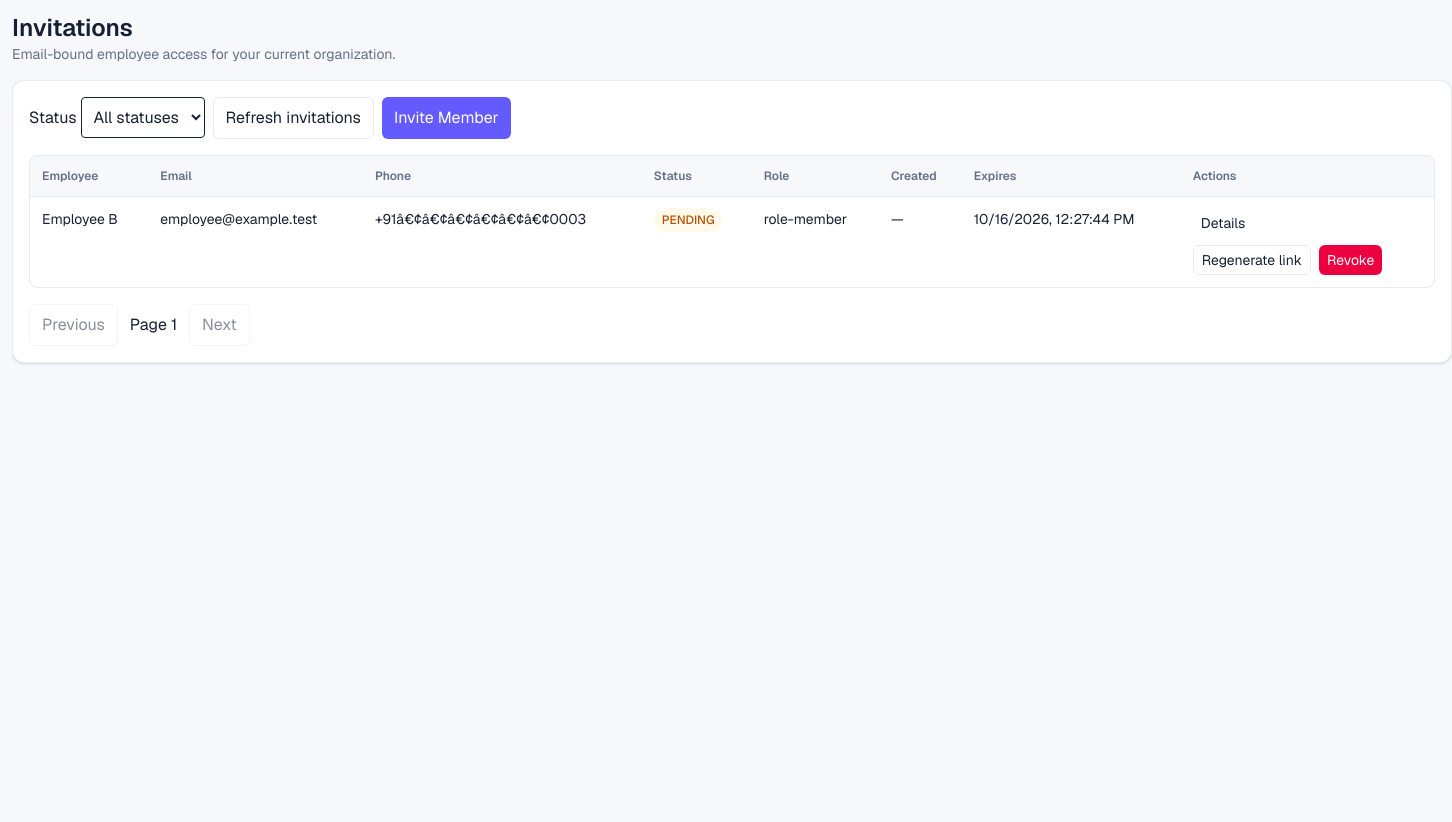
Test: resends through the real endpoint without making a second invitation
Step 1. Click the button "Regenerate link" → (1252, 260), box [1193,245,1311,275]
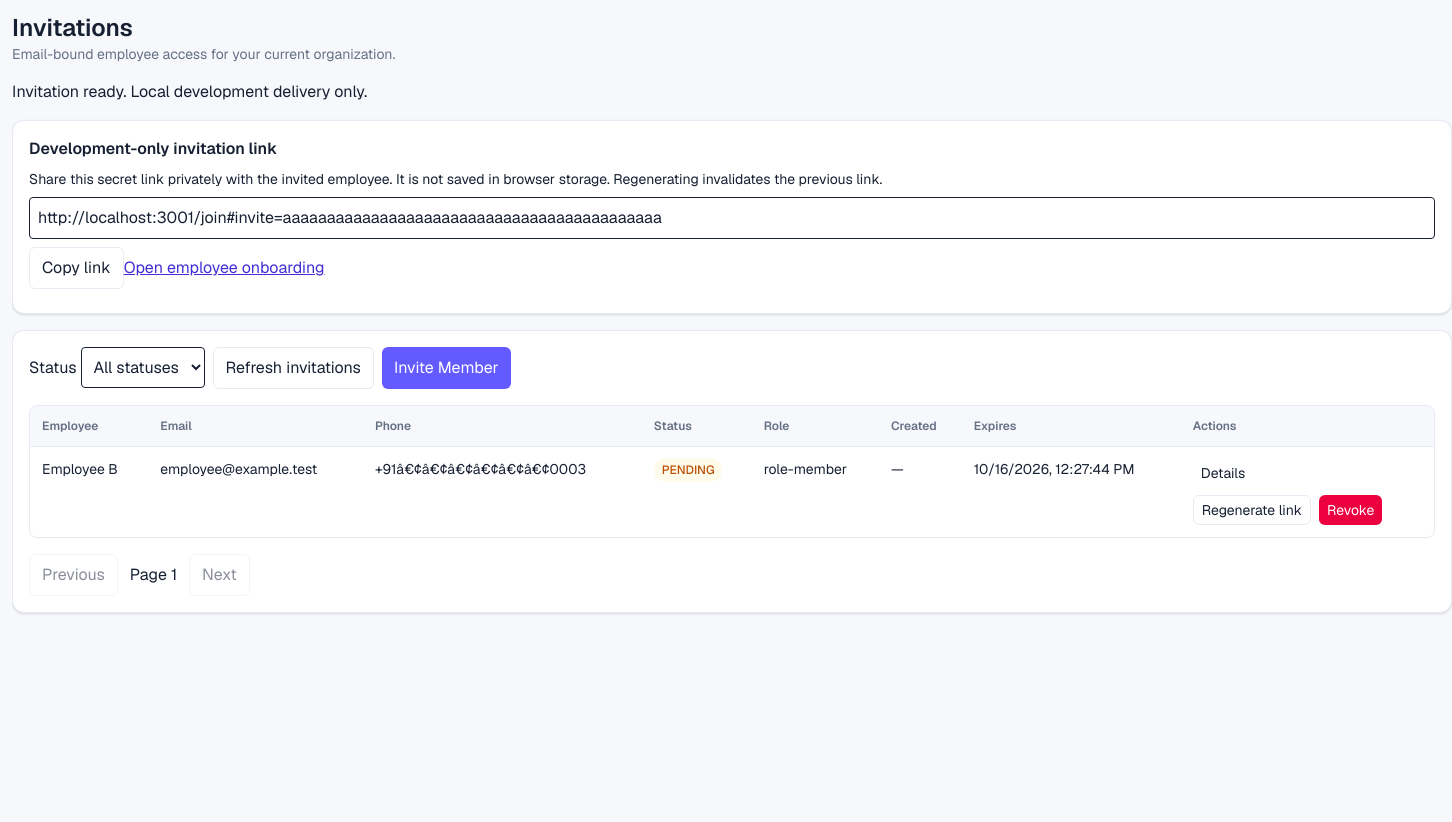
Now the field named "Development invitation link" is shown, box [29,197,1435,239]
